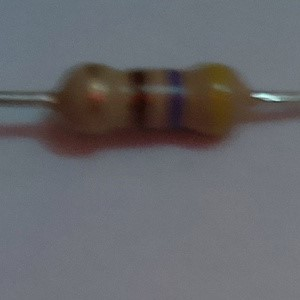brown_band: (125, 66, 150, 132)
gold_band: (83, 61, 109, 135)
violet_band: (162, 64, 186, 134)
yellow_band: (204, 60, 233, 140)
